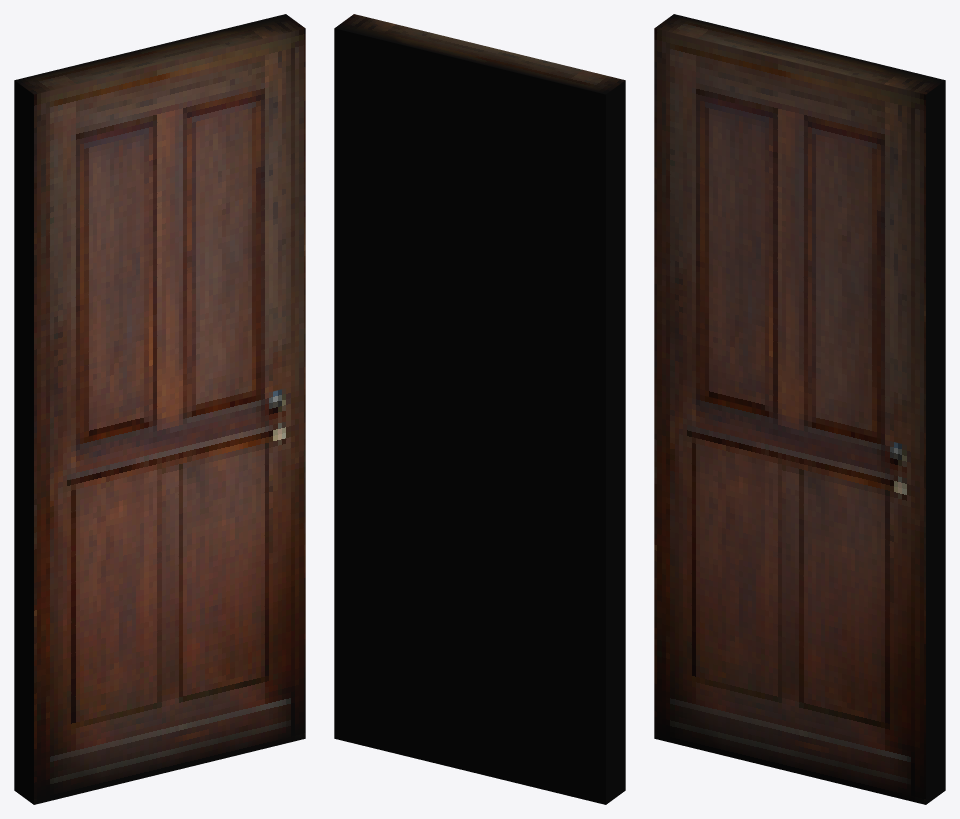
Rendered from cabin_door.glb.
3 views of the same model, side by side, from view 1: azimuth 30°, elevation 25°; view 2: azimuth 150°, elevation 25°; view 3: azimuth 330°, elevation 25° (orthographic).
Visible parts, largest first — view 1: Door.001; view 2: Door.001; view 3: Door.001.
Boxes of the visible parts, x1,y1,x2,y2 form: Door.001: (14, 14, 305, 804); Door.001: (334, 14, 625, 804); Door.001: (654, 14, 945, 804).
Size of the model in its own units: 0.8 by 2 by 0.1.
1 material, 1 textured.
